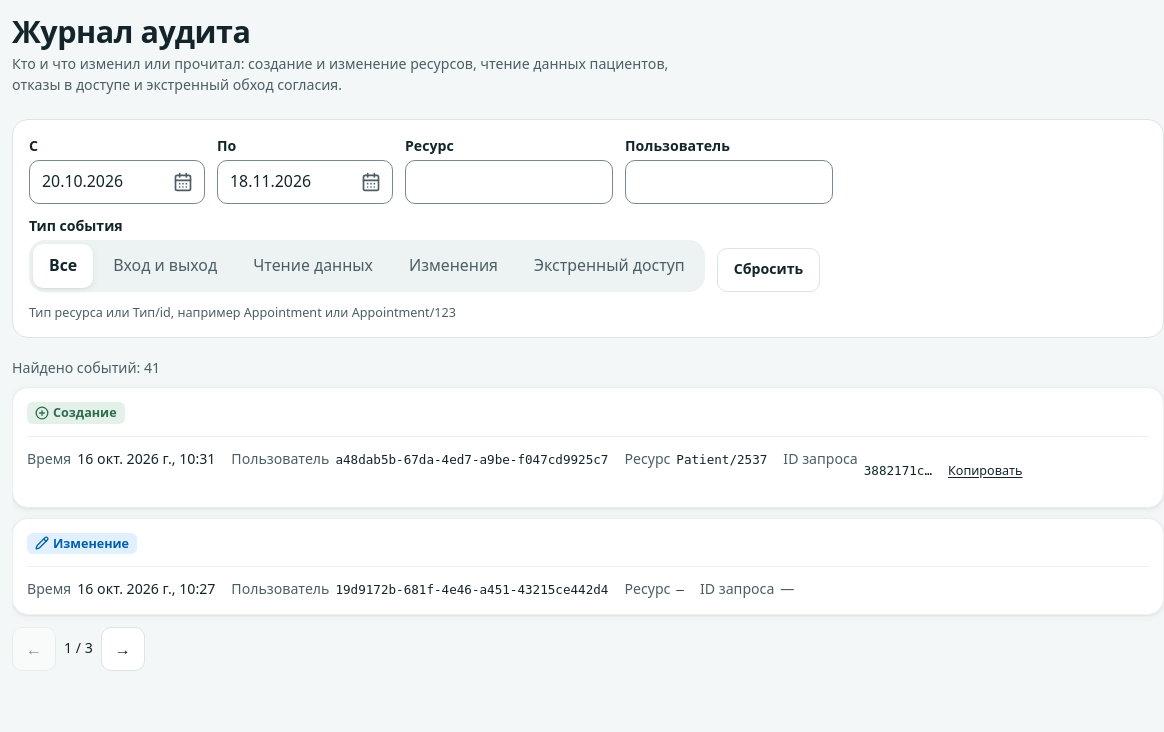
Scenario: AuditPanel › should drop the error of a field that is typed back to the applied value
Check: the text "Найдено событий: 41" is shown, box [12,358,160,377]
In the field labelled "Ресурс": (509, 182) [405,160,613,204], type "appointment"
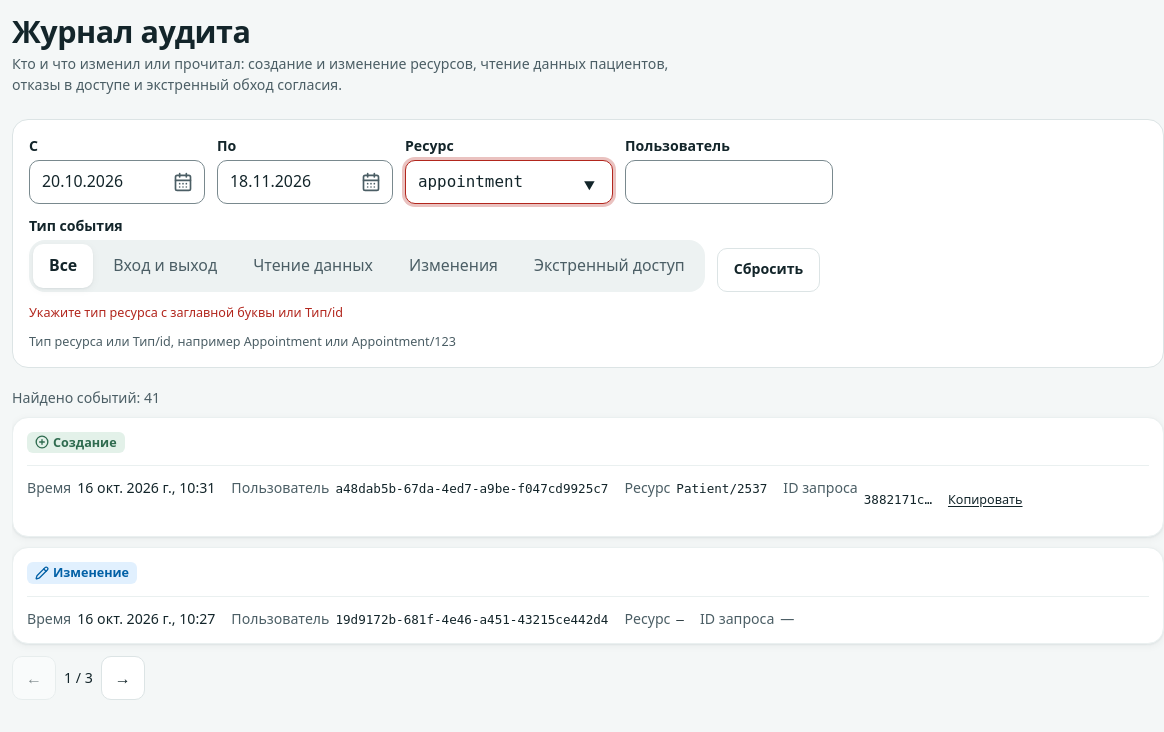
Check: the text "Укажите тип ресурса с заглавной буквы или Тип/id" is shown, box [29,304,343,321]
Clear the field labelled "Ресурс": (509, 182) [405,160,613,204]
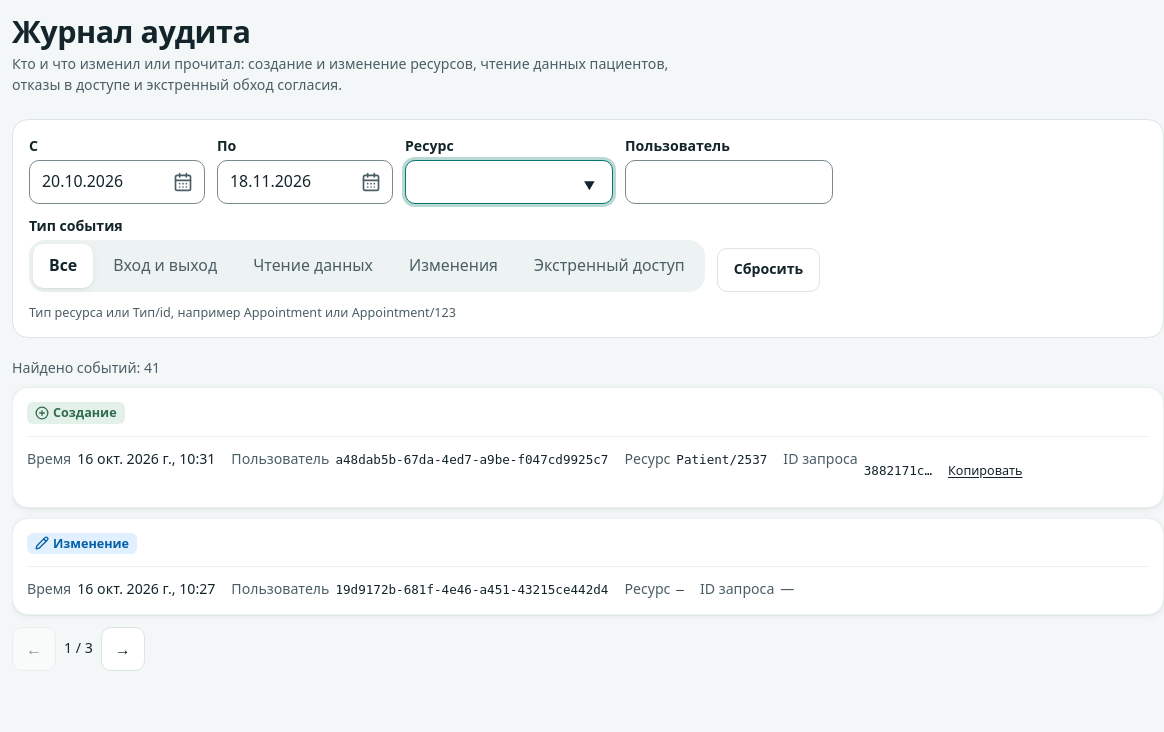
Check: the text "Укажите тип ресурса с заглавной буквы или Тип/id" is gone
